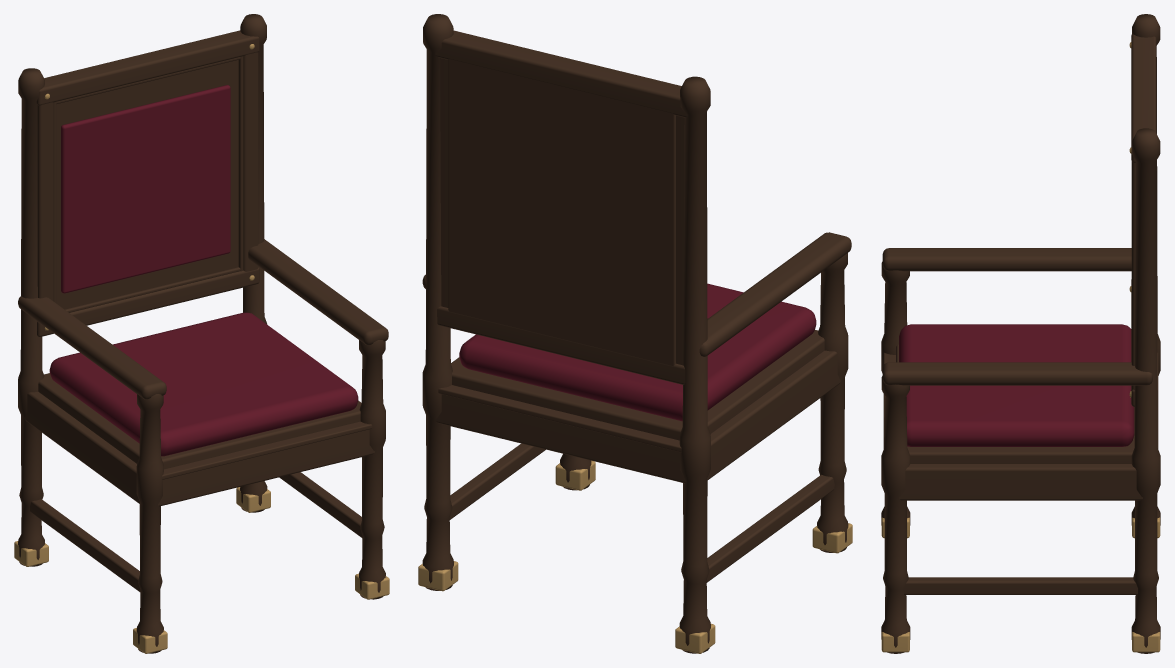
The model's file is imperial-chair.glb.
3 views of the same model, side by side, from view 1: azimuth 30°, elevation 25°; view 2: azimuth 150°, elevation 25°; view 3: azimuth 270°, elevation 25° (orthographic). The views are drawn at different scales.
Parts seen in each view (by area): view 1: Carved walnut, Oxblood upholstery, Restrained gilt inlay; view 2: Carved walnut, Oxblood upholstery, Restrained gilt inlay; view 3: Carved walnut, Oxblood upholstery, Restrained gilt inlay.
Part boxes in pixels (x1,y1,x2,y2): Carved walnut: [18, 14, 388, 653]; Oxblood upholstery: [49, 85, 358, 456]; Restrained gilt inlay: [14, 44, 389, 653]; Carved walnut: [422, 14, 851, 653]; Oxblood upholstery: [459, 283, 816, 421]; Restrained gilt inlay: [418, 460, 852, 653]; Carved walnut: [881, 14, 1160, 653]; Oxblood upholstery: [899, 324, 1134, 446]; Restrained gilt inlay: [881, 42, 1160, 652].
Size of the model in its own units: 2.4 by 4.55 by 2.23.
